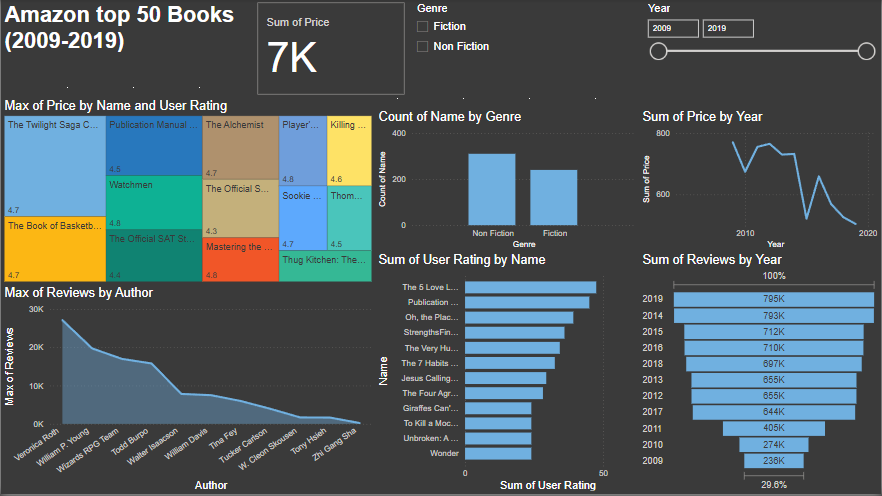

This screenshot's page, from the dashboard's own definition file:
{"tool":"powerbi","page":{"name":"Page 1","canvas":[1280,720],"ordinal":0},"visuals":[{"type":"slicer","fields":{"Values":["exampledataset.Genre"]},"box":[592,0,336,144],"z":0},{"type":"clusteredBarChart","fields":{"Category":["exampledataset.Name"],"Y":["exampledataset.User Rating"]},"box":[544,368,384,352],"z":1000},{"type":"areaChart","fields":{"Y":["exampledataset.Reviews"],"Category":["exampledataset.Author"]},"box":[0,416,544,304],"z":2000},{"type":"treemap","fields":{"Group":["exampledataset.Name"],"Values":["exampledataset.Price"],"Details":["exampledataset.User Rating"]},"box":[0,144,544,272],"z":2001},{"type":"textbox","box":[0,0,368,128],"z":2002},{"type":"lineChart","fields":{"Category":["exampledataset.Year"],"Y":["exampledataset.Price"]},"box":[928,160,352,208],"z":2003},{"type":"columnChart","fields":{"Y":["exampledataset.Name"],"Category":["exampledataset.Genre"]},"box":[544,160,384,208],"z":2004},{"type":"cardVisual","fields":{"Data":["exampledataset.Price"]},"box":[368,0,224,144],"z":2005},{"type":"funnel","fields":{"Category":["exampledataset.Year"],"Y":["exampledataset.Reviews"]},"box":[928,368,352,352],"z":2006},{"type":"slicer","fields":{"Values":["exampledataset.Year"]},"box":[928,0,352,150],"z":2007}]}

Visuals, with their boxes in screenshot pixels (x1, y1, x2, y2), scaled from the page's 1280x720 canvas onto the 882x496 screenshot:
slicer - exampledataset.Genre: x1=408 y1=0 x2=639 y2=99
clusteredBarChart - exampledataset.Name x exampledataset.User Rating: x1=375 y1=254 x2=639 y2=495
areaChart - exampledataset.Reviews x exampledataset.Author: x1=0 y1=287 x2=375 y2=495
treemap - exampledataset.Name x exampledataset.Price: x1=0 y1=99 x2=375 y2=287
textbox: x1=0 y1=0 x2=254 y2=88
lineChart - exampledataset.Year x exampledataset.Price: x1=639 y1=110 x2=881 y2=254
columnChart - exampledataset.Name x exampledataset.Genre: x1=375 y1=110 x2=639 y2=254
cardVisual - exampledataset.Price: x1=254 y1=0 x2=408 y2=99
funnel - exampledataset.Year x exampledataset.Reviews: x1=639 y1=254 x2=881 y2=495
slicer - exampledataset.Year: x1=639 y1=0 x2=881 y2=103
